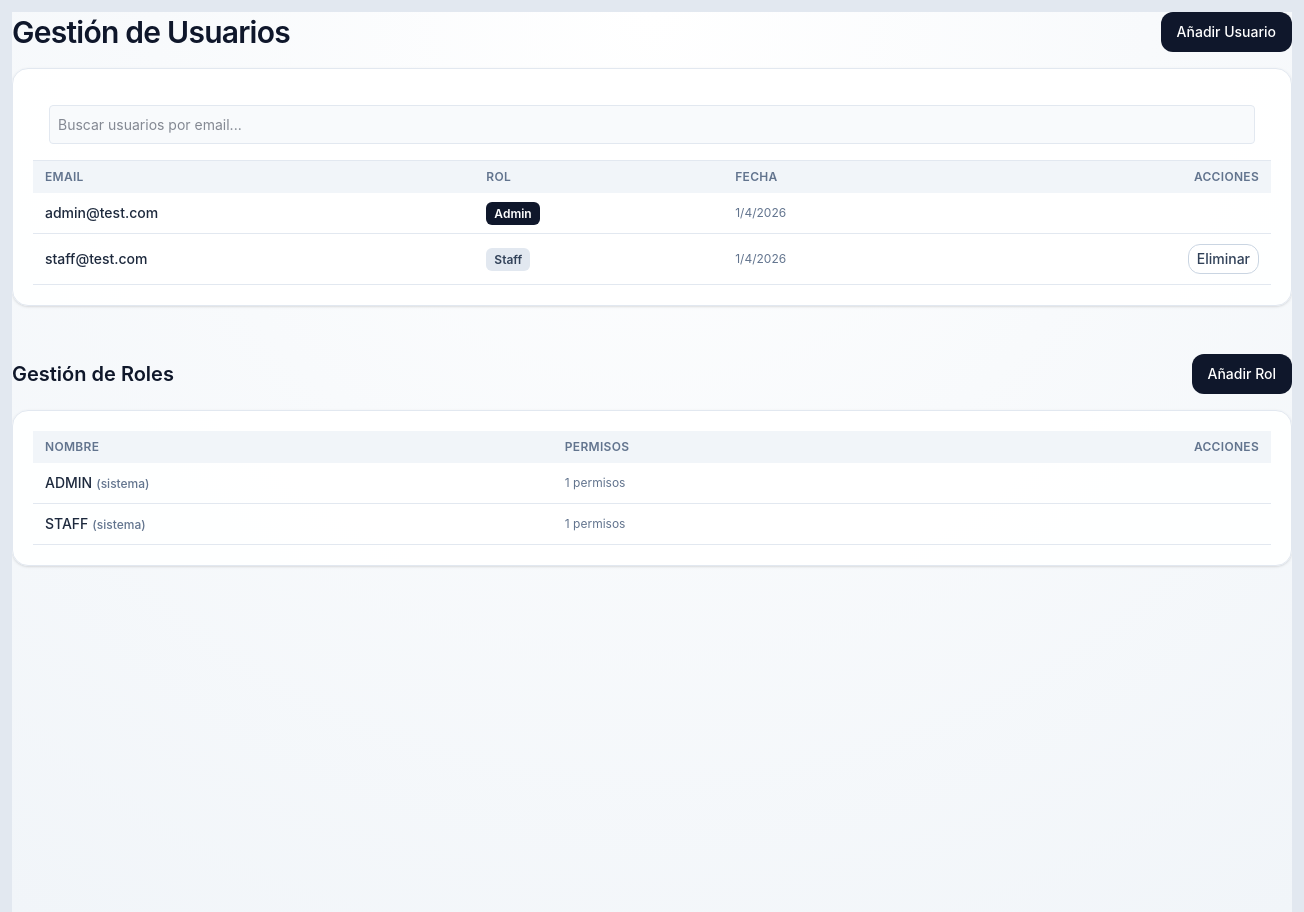
Test case: UsersPage › Permission checks › should show create user form when user has user.create permission
This screenshot has width=1304, height=912.
Note: Click "Añadir Usuario" button to show the form
Step 1. Click the button "Añadir Usuario" → (1226, 32), box [1161,12,1292,52]
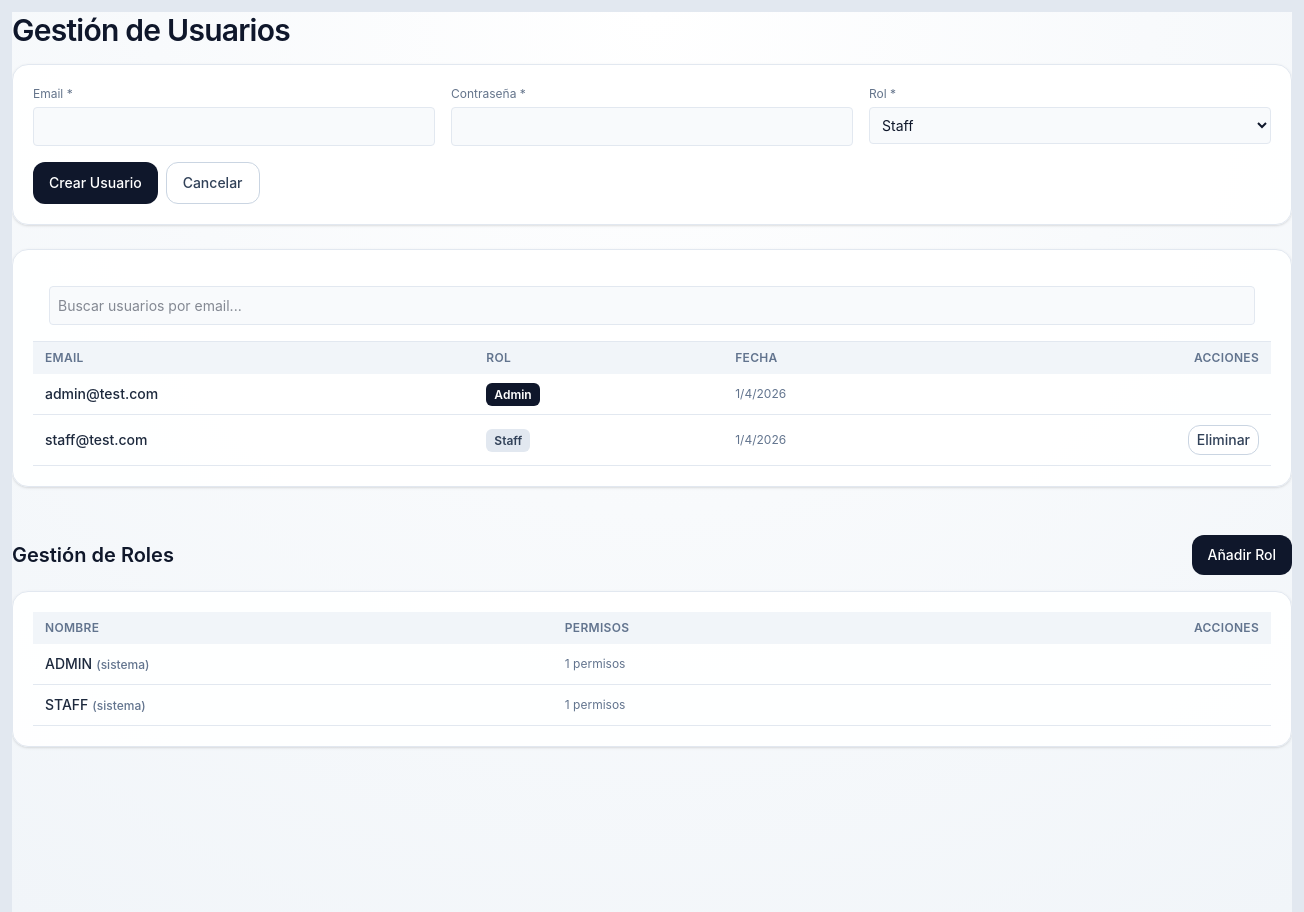
Now the form with test id "create-user-form" is shown, box [33,85,1271,204]
